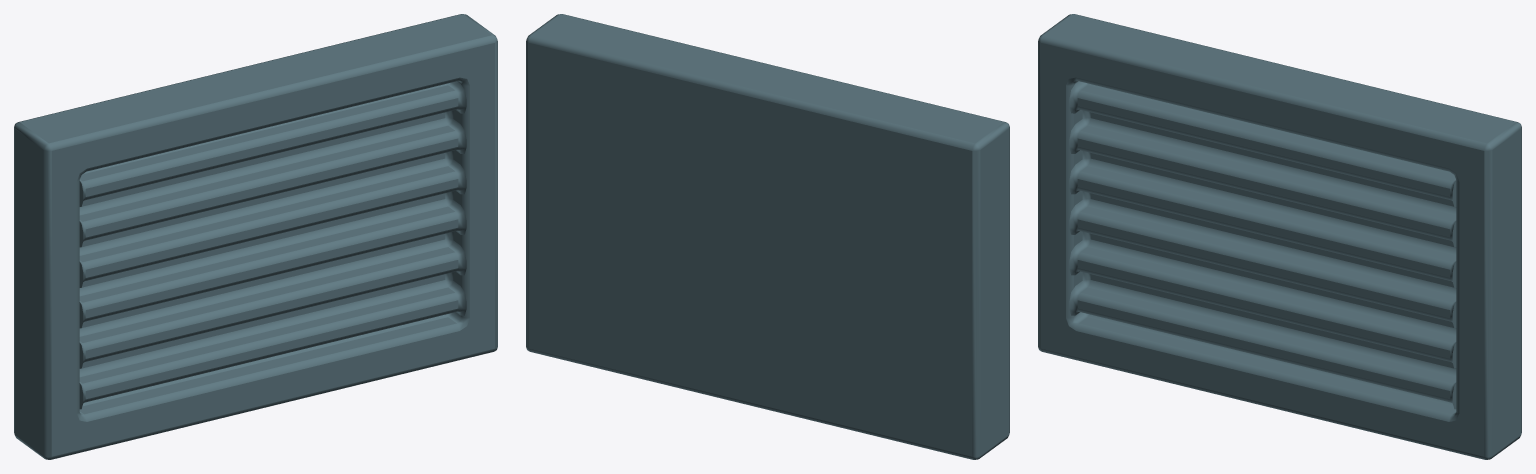
The model's file is SM_Vent_Wall.glb.
3 renders of one model, left to right at view 1: azimuth 30°, elevation 25°; view 2: azimuth 150°, elevation 25°; view 3: azimuth 330°, elevation 25°, orthographic.
Visible parts, largest first — view 1: SM_Vent_Wall; view 2: SM_Vent_Wall; view 3: SM_Vent_Wall.
Part boxes in pixels (x1=…): SM_Vent_Wall: x1=14, y1=14, x2=497, y2=459; SM_Vent_Wall: x1=526, y1=14, x2=1009, y2=459; SM_Vent_Wall: x1=1038, y1=14, x2=1521, y2=459.
Bounding box in the file's own units: 0.9 × 0.6 × 0.1252.
